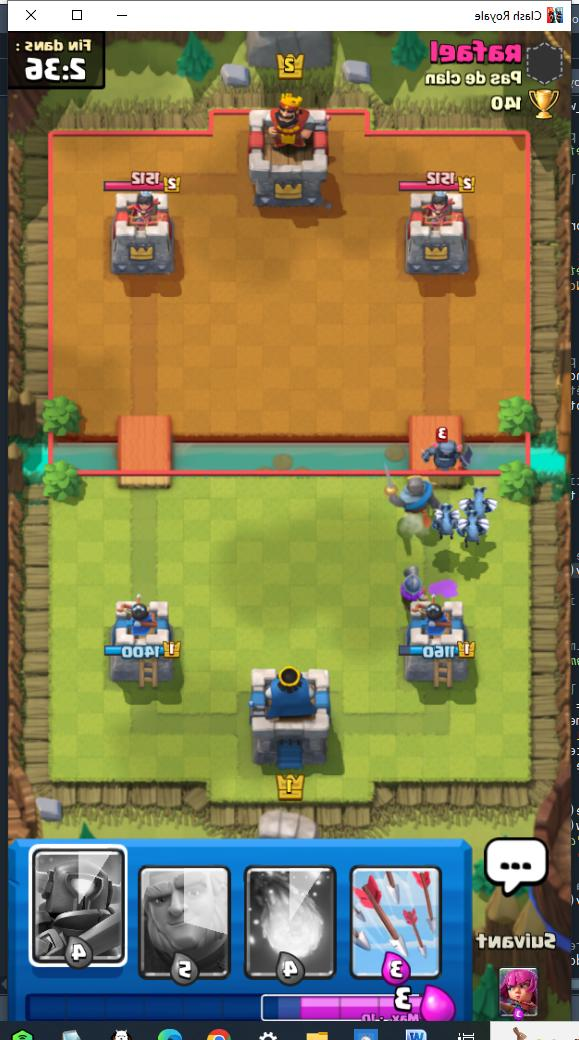chevalier: (380, 479, 444, 529)
gargouille: (459, 488, 495, 517), (460, 511, 485, 548), (434, 508, 458, 537)
mini_PEKKA: (416, 431, 476, 472)
